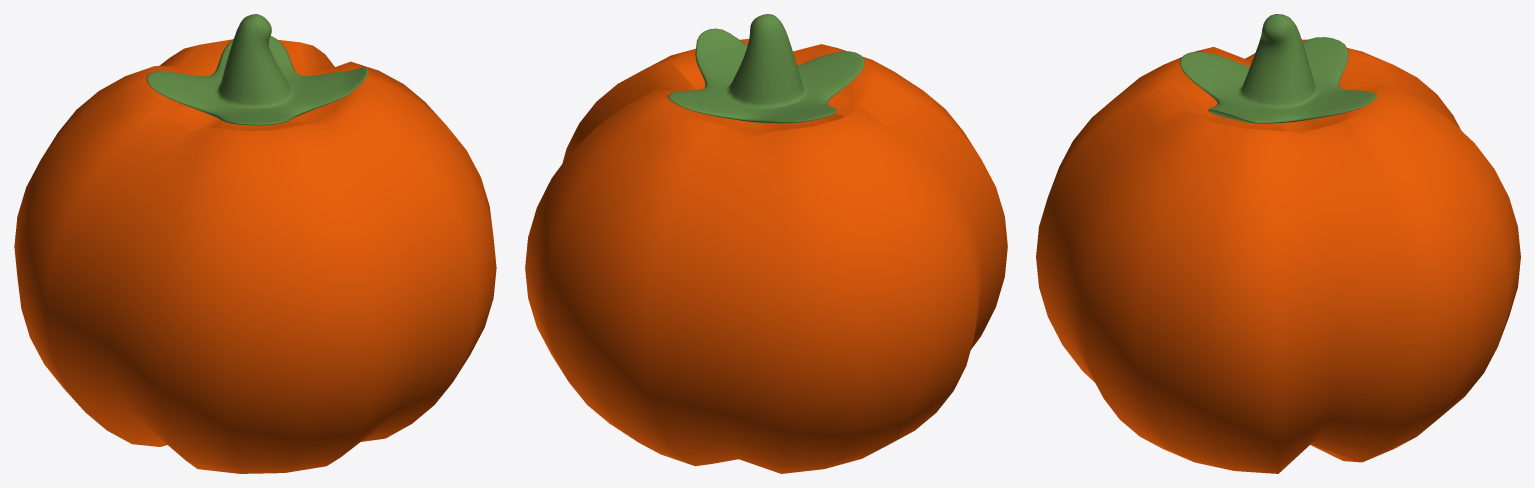
The model's file is tomato_whole.fbx.
The picture shows the model from 3 angles, left to right: view 1: azimuth 30°, elevation 25°; view 2: azimuth 150°, elevation 25°; view 3: azimuth 270°, elevation 25°; orthographic projection.
Visible parts, largest first — view 1: pSphere5, pCube9; view 2: pSphere5, pCube9; view 3: pSphere5, pCube9.
Boxes of the visible parts, x1,y1,x2,y2 form: pSphere5: (14,39,496,473); pCube9: (146,14,368,125); pSphere5: (525,38,1007,473); pCube9: (668,14,864,123); pSphere5: (1036,39,1520,473); pCube9: (1179,14,1377,123).
Bounding box in the file's own units: 8 × 7.43 × 8.
